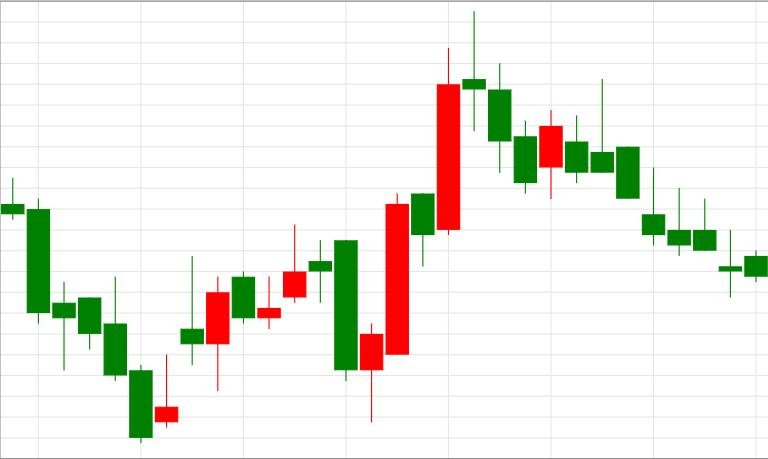evening_star_fall: (360, 10, 512, 423)
shooting_star_fall: (181, 226, 307, 391)
